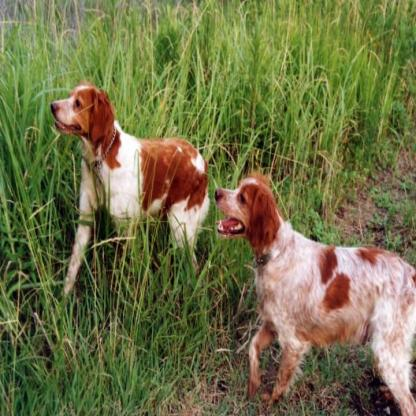Brittany_spaniel: (212, 168, 414, 413), (48, 78, 210, 298)
